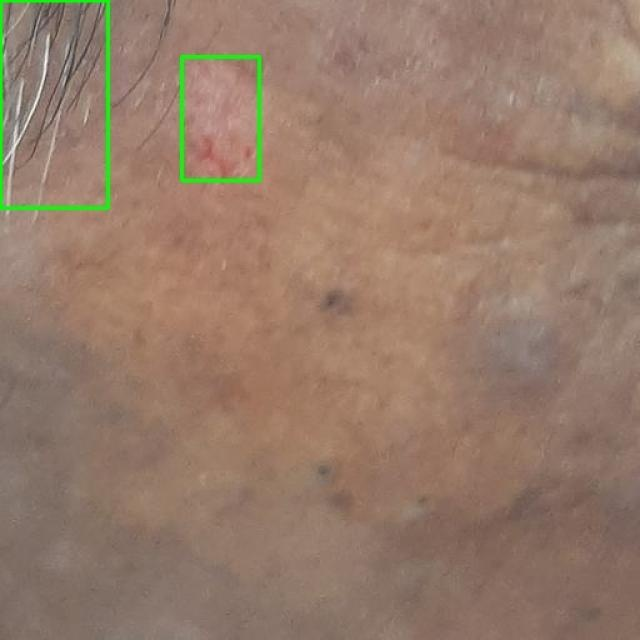Contact Dermatitis: (0, 0, 108, 208), (181, 56, 259, 180)
